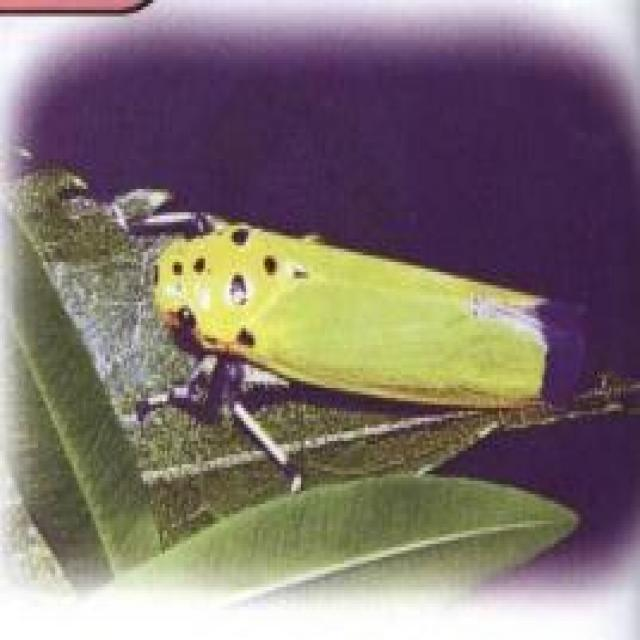Yechan: (127, 213, 597, 450)
